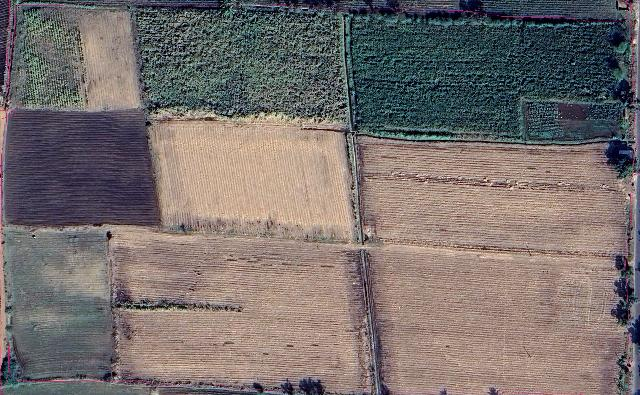DryFarms: (109, 237, 369, 394), (367, 245, 624, 395), (358, 142, 633, 258), (146, 121, 361, 246), (80, 6, 139, 111)
EmptyFarms: (9, 112, 157, 227)
Farms: (348, 15, 630, 140), (129, 13, 342, 119), (3, 229, 110, 378), (6, 3, 87, 111)
